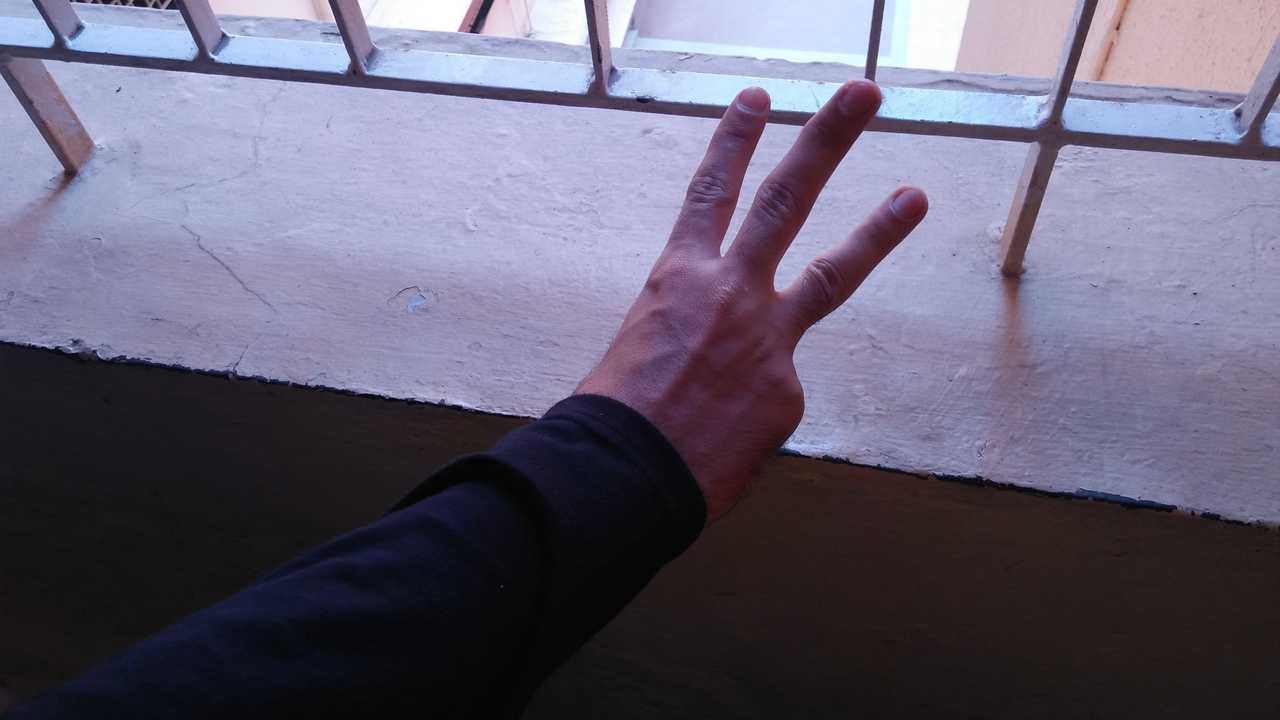fingertip: (874, 172, 938, 224), (828, 70, 890, 116), (722, 74, 776, 124)
